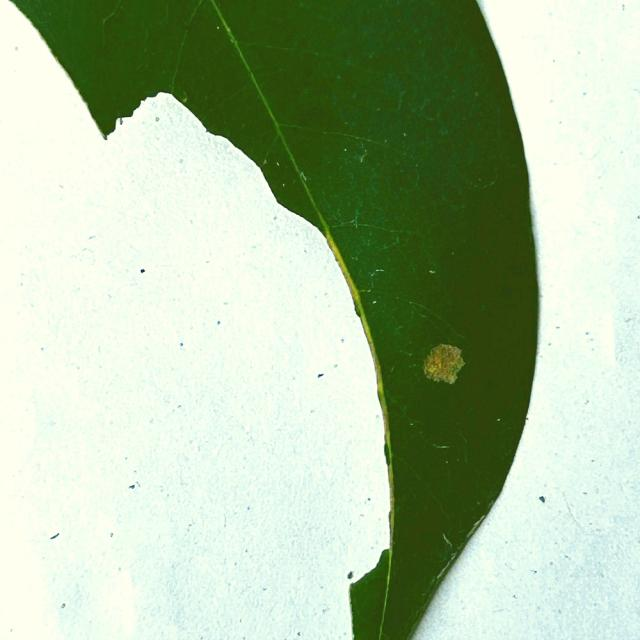Deficiency Leaf: (84, 93, 390, 639)
Lychee: (17, 0, 538, 639)
